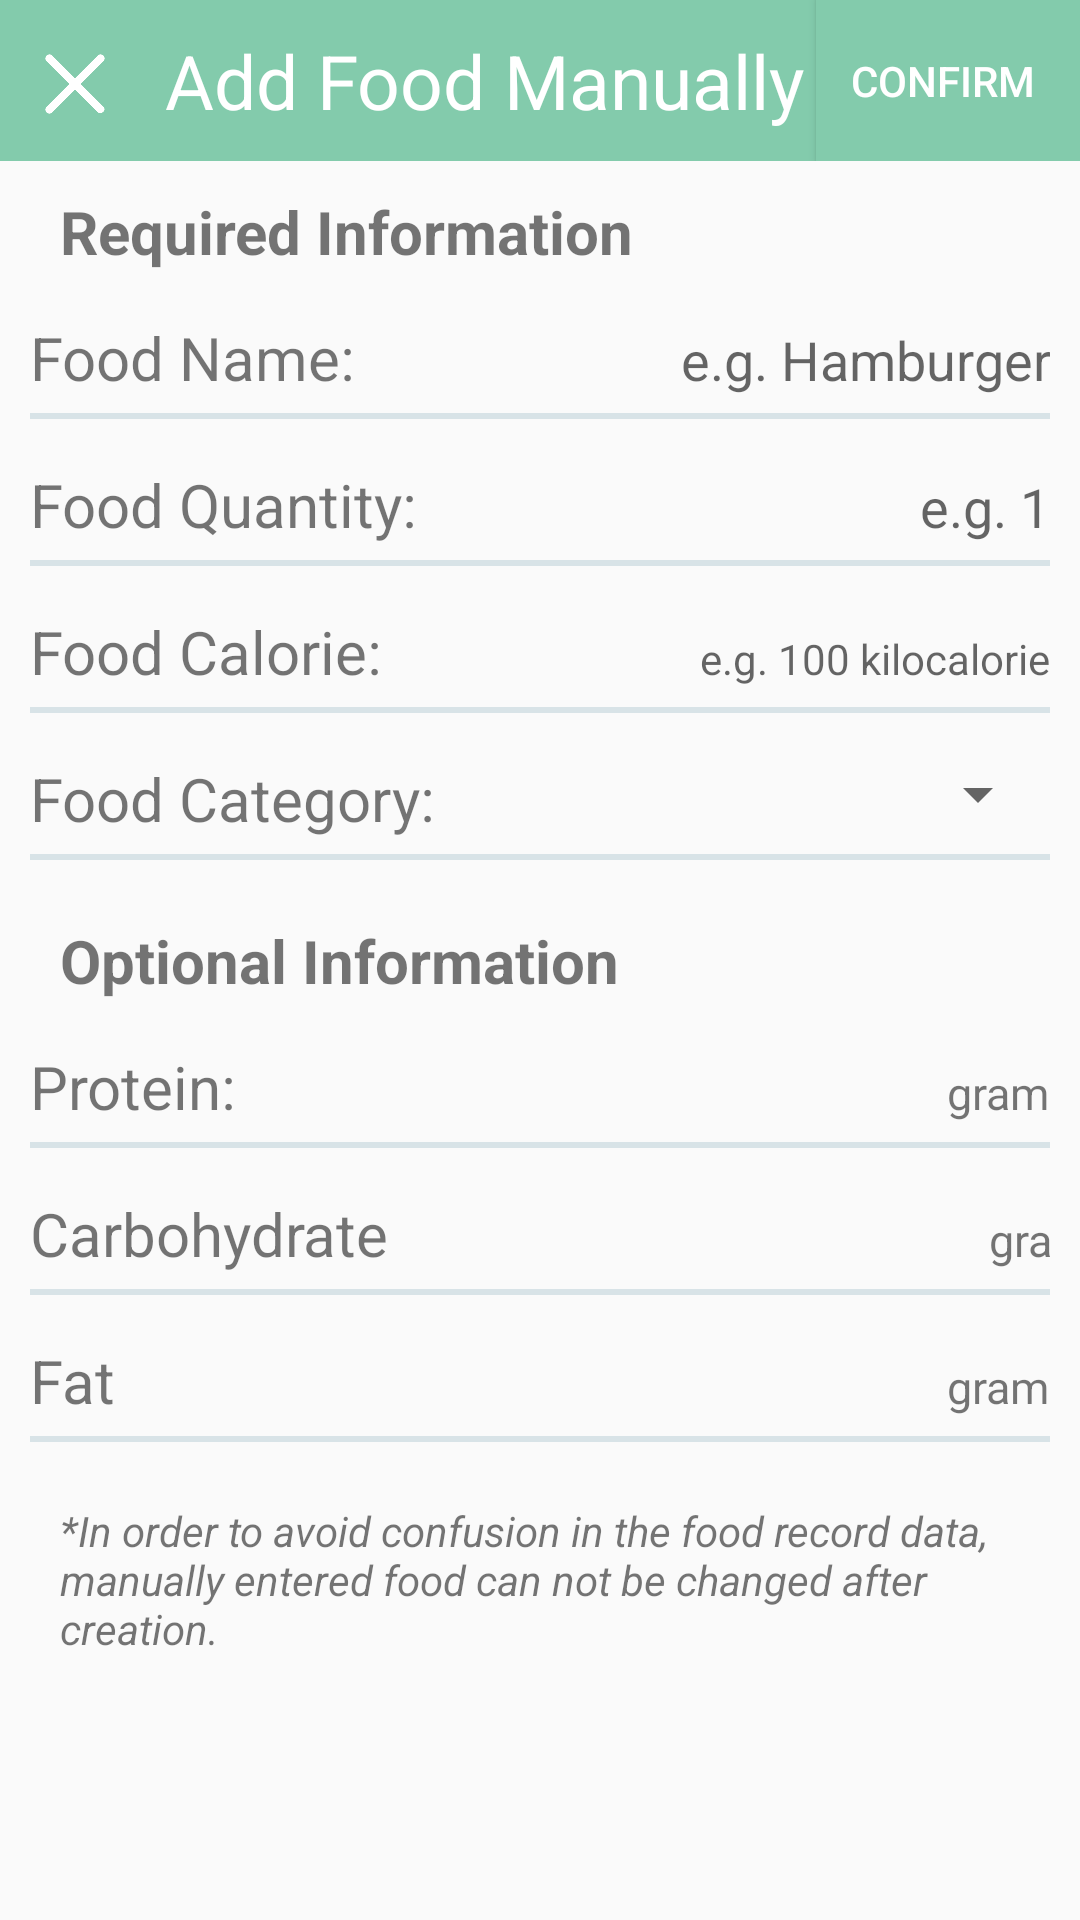

Named icons in this screenshot (1080px×1920px) and their bounding boxes, (x1, y1, x2, y2):
cancel: (45, 54, 105, 114)
